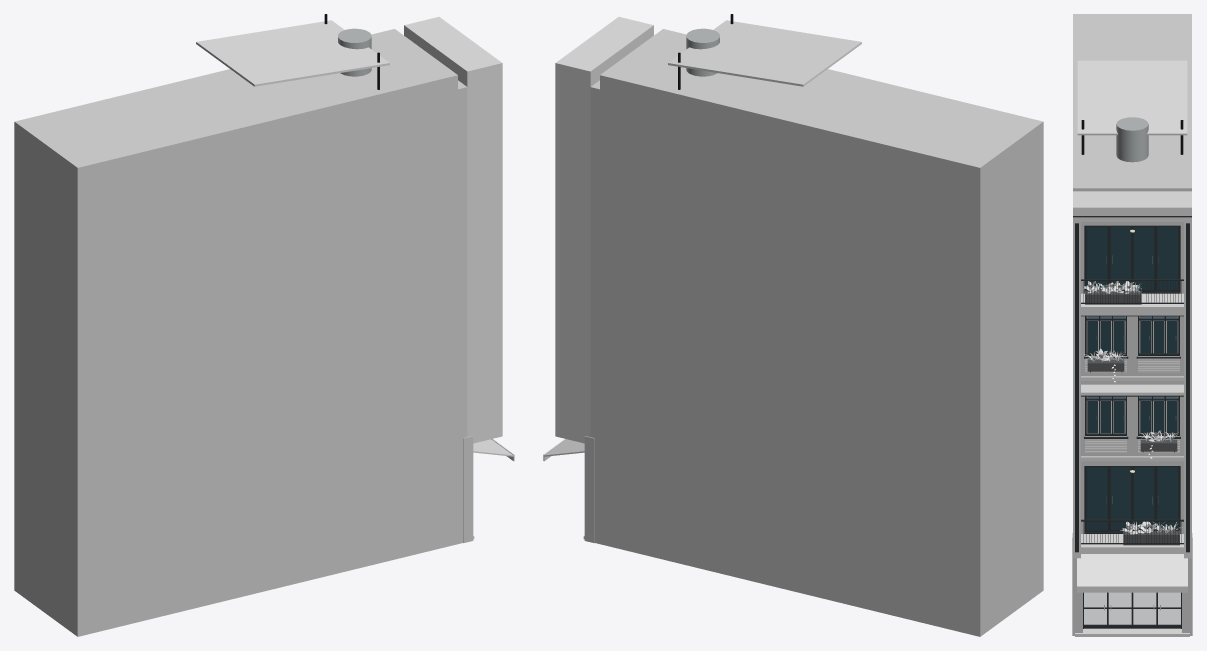
Rendered from OW_Mau_NhaPho_4_5_2.fbx.
3 renders of one model, left to right at view 1: azimuth 30°, elevation 25°; view 2: azimuth 150°, elevation 25°; view 3: azimuth 270°, elevation 25°, orthographic. The views are drawn at different scales.
Visible parts, largest first — view 1: OW_NhaPho_9004; view 2: OW_NhaPho_9004; view 3: OW_NhaPho_9004, OW_MatTienKinh.
Boxes of the visible parts, x1,y1,x2,y2 form: OW_NhaPho_9004: (14, 14, 514, 636); OW_NhaPho_9004: (543, 14, 1043, 636); OW_NhaPho_9004: (1072, 14, 1192, 636); OW_MatTienKinh: (1083, 592, 1181, 628).
Size of the model in its own units: 17.77 by 19.61 by 4.5.
